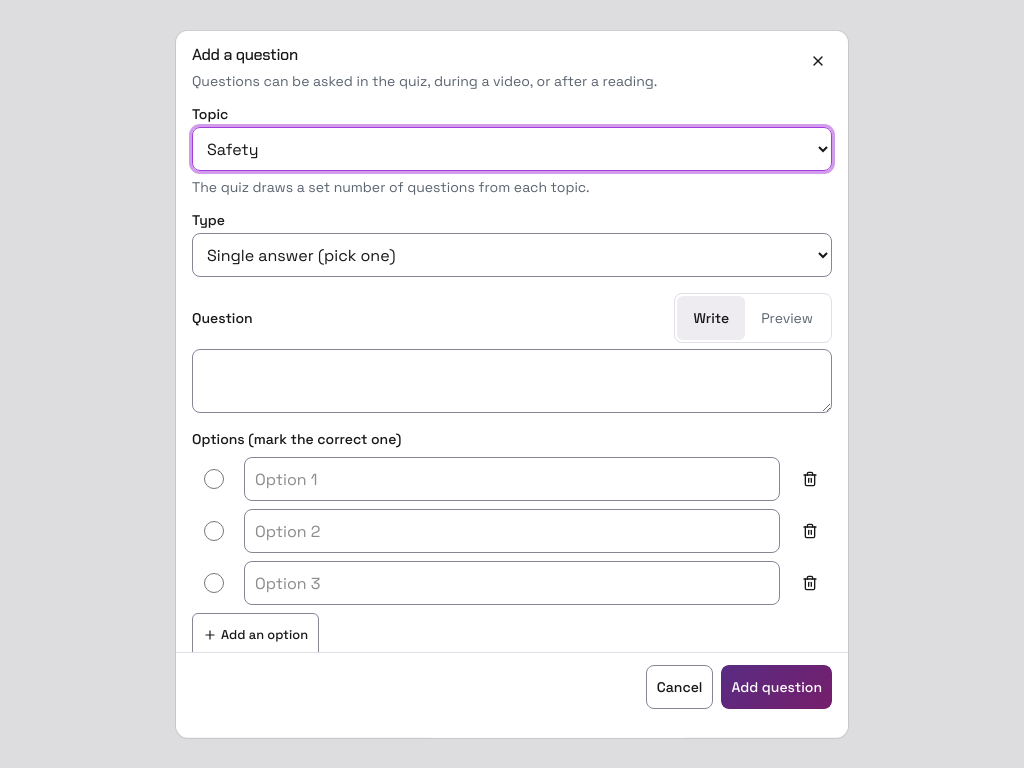
Test: QuestionDialog adding › will not save a question without a prompt or a correct option, and says what is missing
Step 1. Click the button "Add question" → (777, 687), box left=722, top=665, right=832, bottom=709
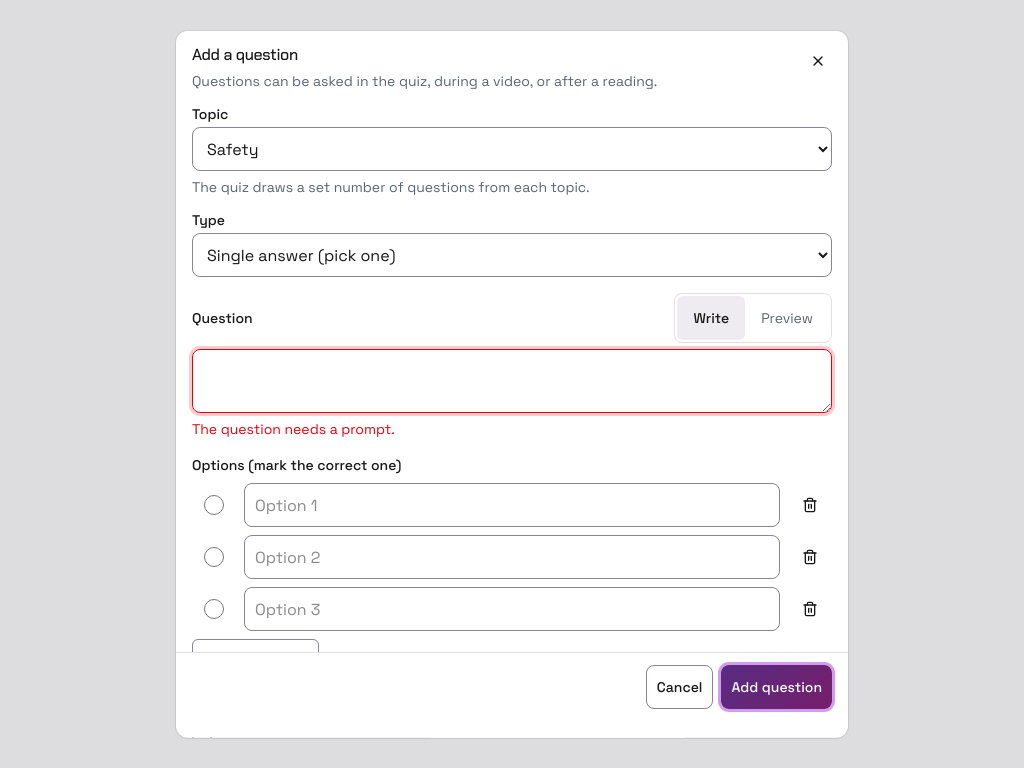
Now the text "The question needs a prompt." is shown, box left=192, top=420, right=395, bottom=438
